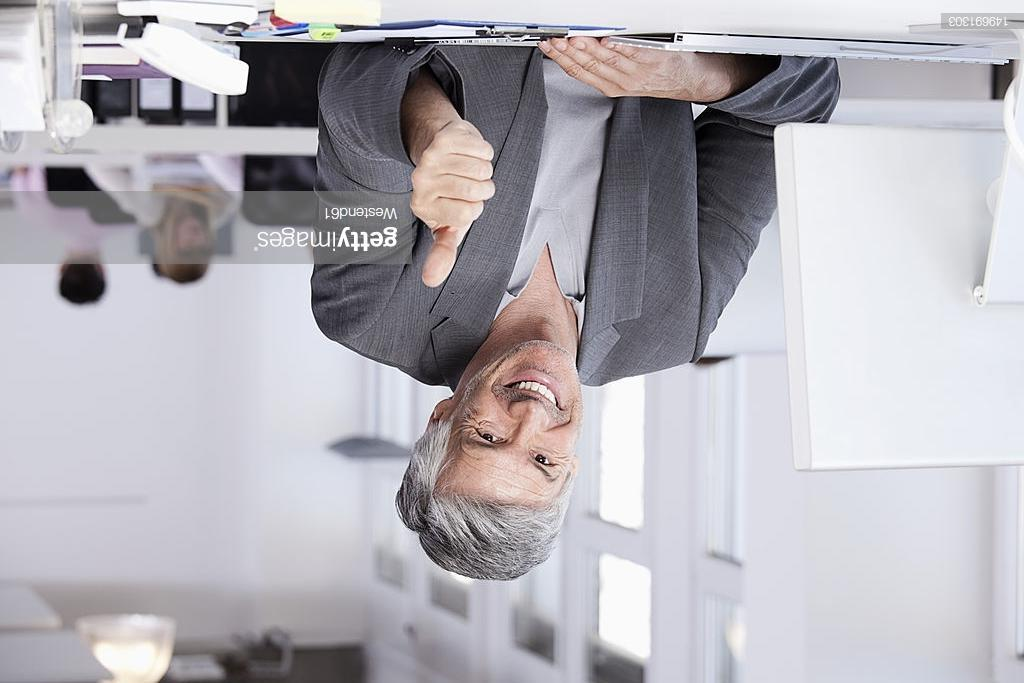thumbsdown: (409, 131, 496, 288)
